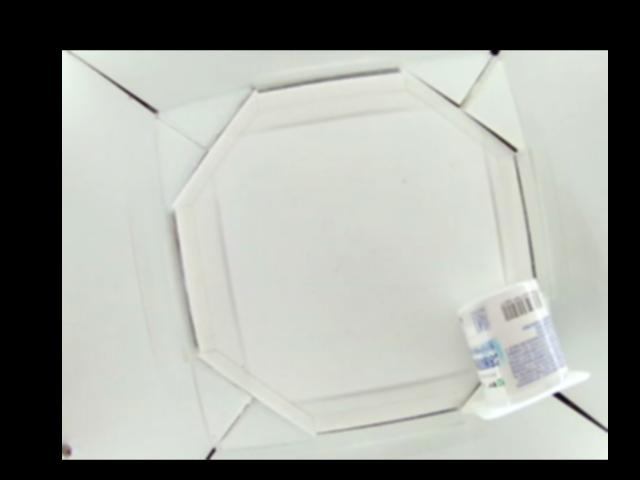Cup: (452, 274, 589, 419)
